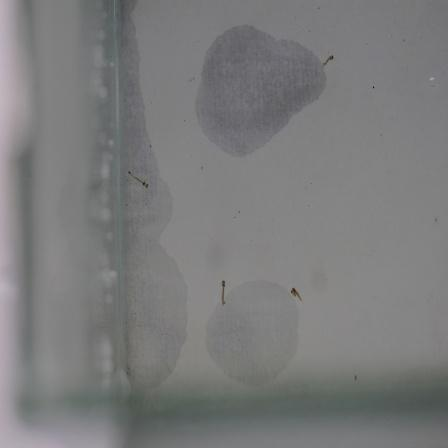Jentik-Nyamuk: (124, 163, 153, 196), (214, 276, 234, 312), (286, 283, 311, 310)
